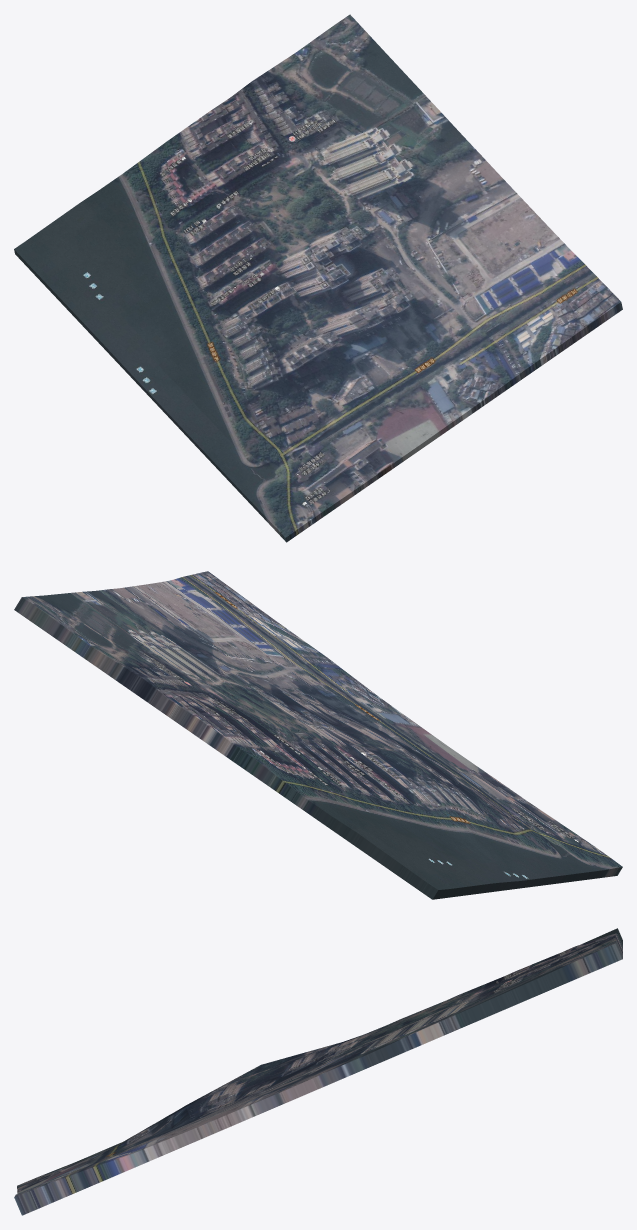
The picture shows the model from 3 angles, top to bottom: view 1: azimuth 30°, elevation 25°; view 2: azimuth 150°, elevation 25°; view 3: azimuth 270°, elevation 25°; orthographic projection. The views are drawn at different scales.
Parts seen in each view (by area): view 1: 0_8_3; view 2: 0_8_3; view 3: 0_8_3.
Boxes of the visible parts, box(x1,y1,x2,y2) form: 0_8_3: box(14, 14, 622, 542); 0_8_3: box(14, 571, 622, 899); 0_8_3: box(14, 928, 622, 1215).
Size of the model in its own units: 597 by 441 by 549.
1 material, 1 textured.
